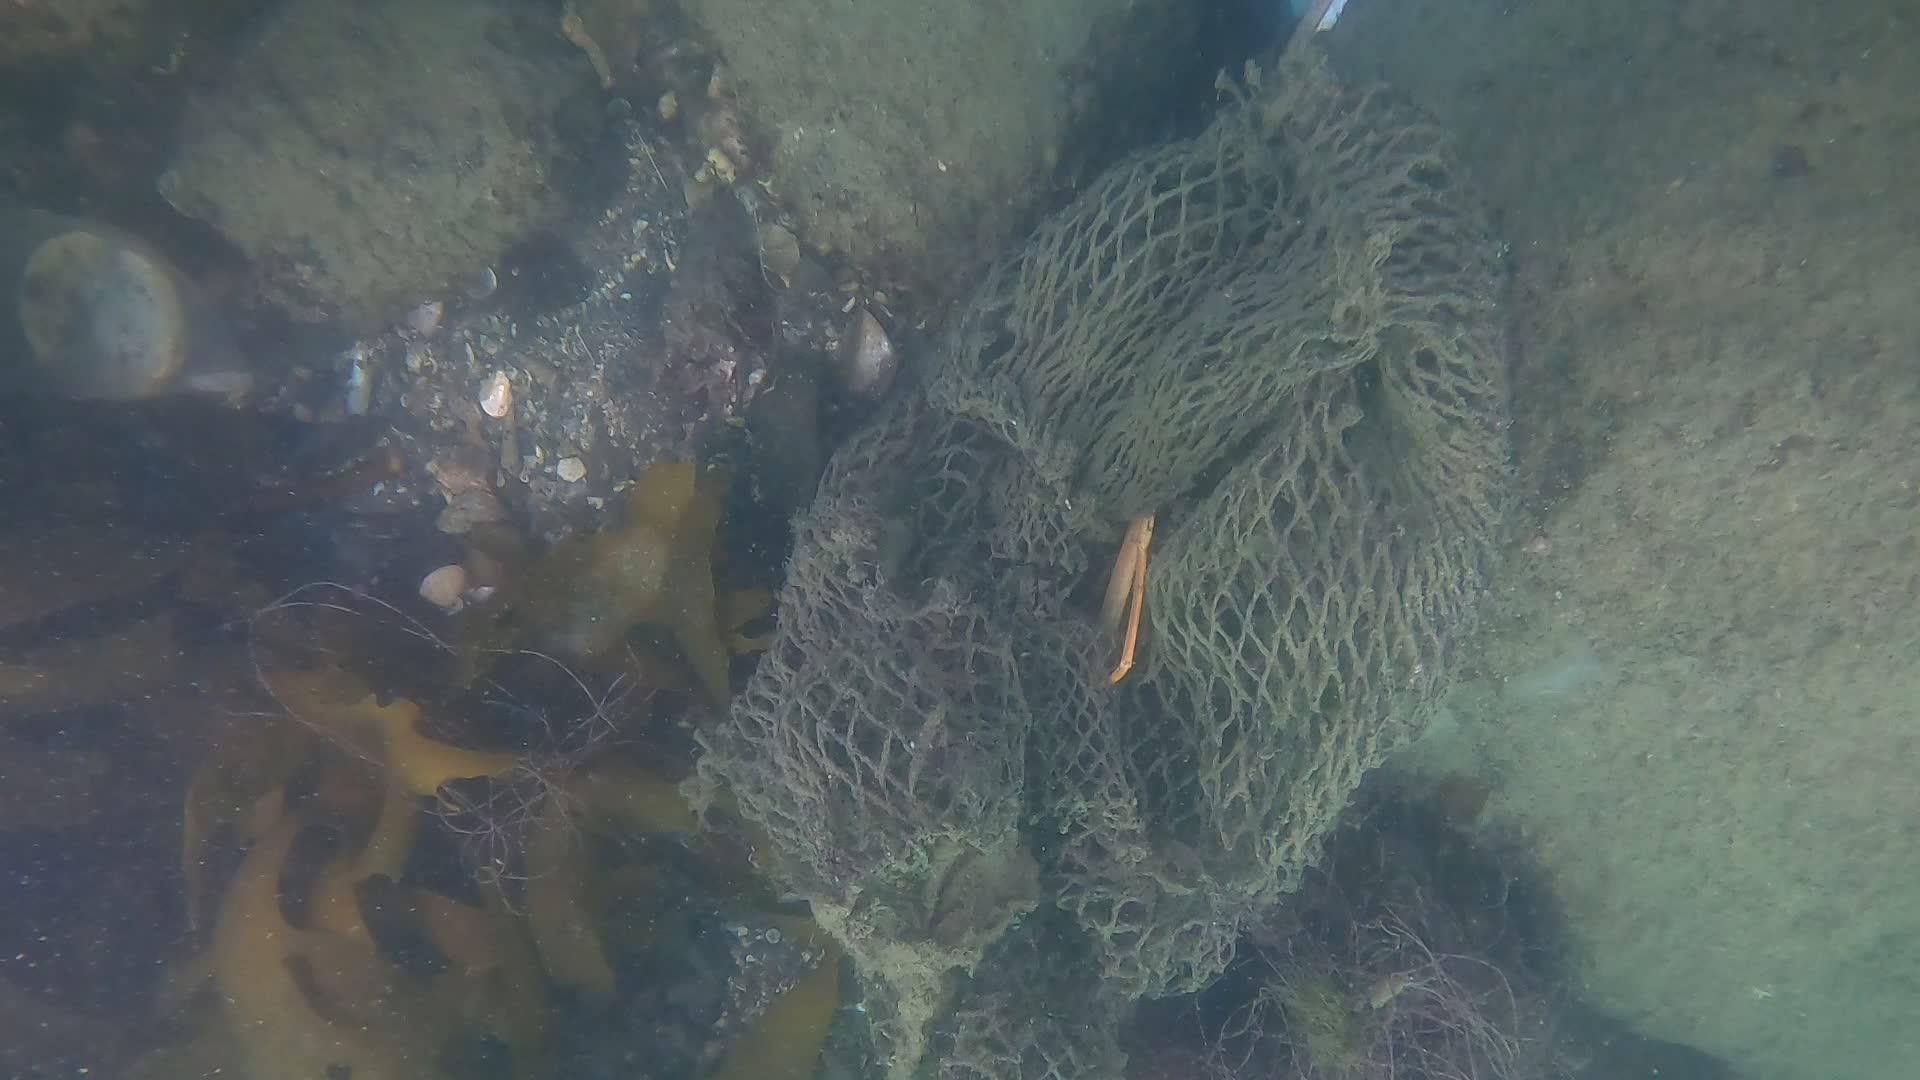fish net: (731, 87, 1501, 1079)
